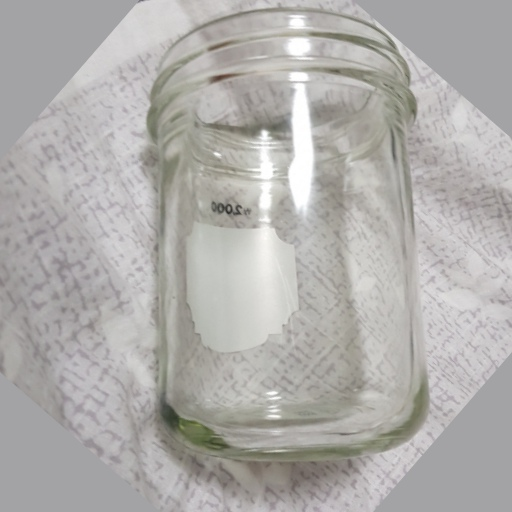Glass_5: (145, 10, 431, 461)
